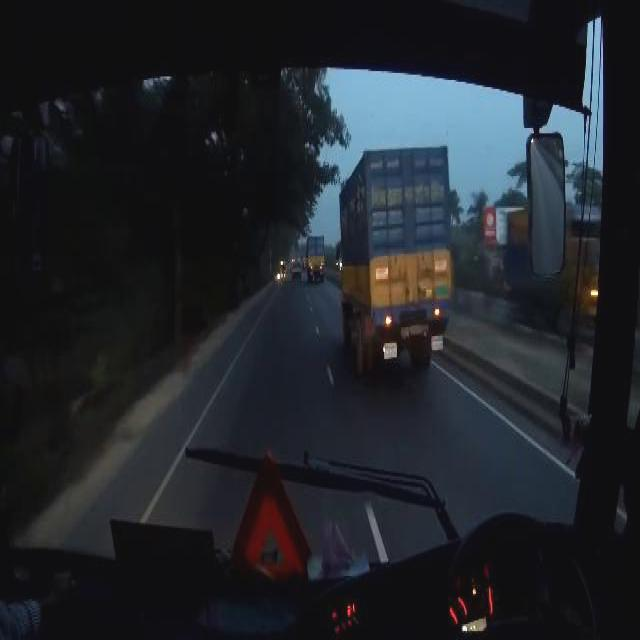TRUCK: (340, 147, 454, 386), (304, 233, 330, 281)
